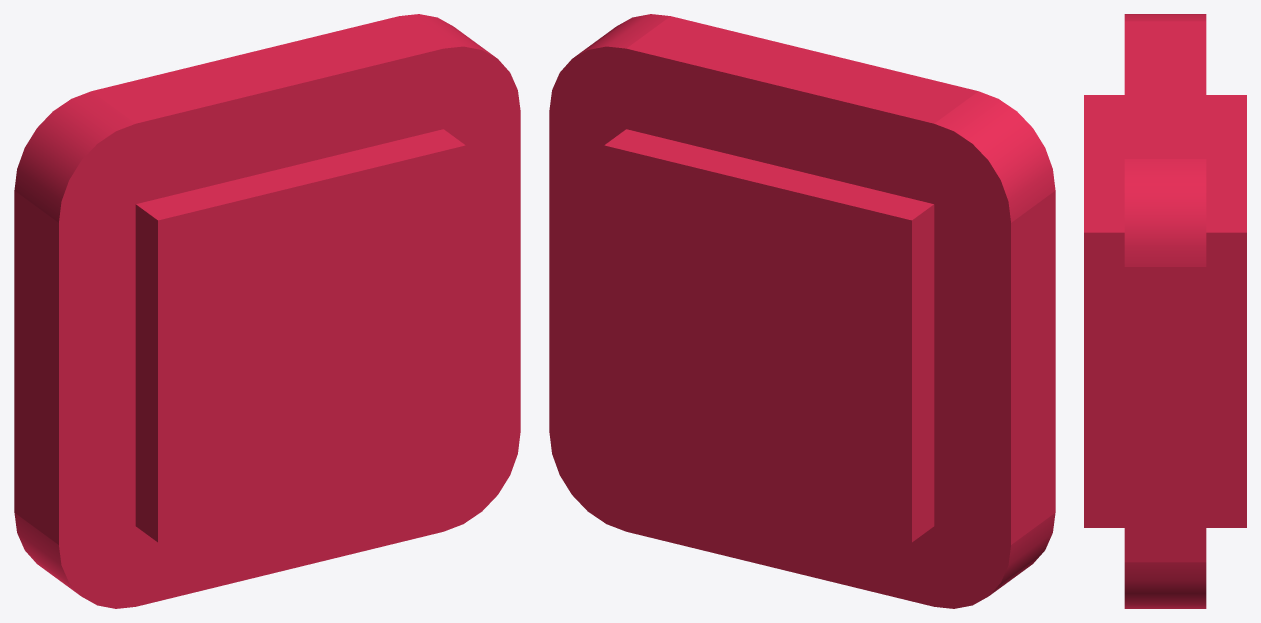
File: Alarm Light.glb
The picture shows the model from 3 angles, left to right: view 1: azimuth 30°, elevation 25°; view 2: azimuth 150°, elevation 25°; view 3: azimuth 270°, elevation 25°; orthographic projection. The views are drawn at different scales.
Visible parts, largest first — view 1: generated(Clone); view 2: generated(Clone); view 3: generated(Clone).
Part boxes in pixels (box(x1,y1,x2,y2)): generated(Clone): box(14, 14, 520, 608); generated(Clone): box(549, 14, 1055, 608); generated(Clone): box(1084, 14, 1246, 608).
Bounding box in the file's own units: 6 × 6 × 2.
1 material, 1 textured.
